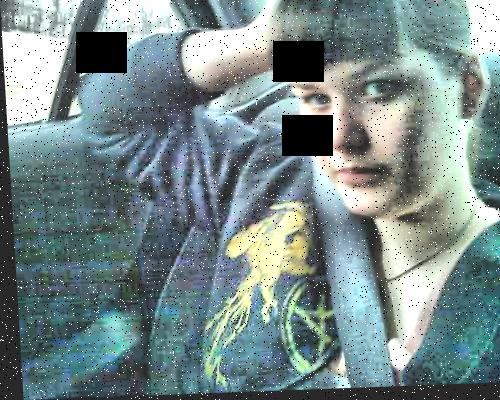seatbelt: (283, 144, 403, 367)
